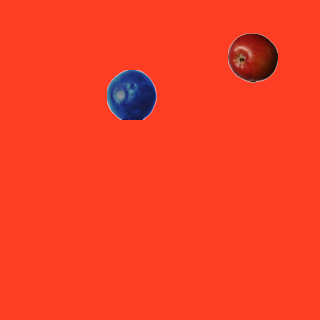Apple Braeburn: (227, 32, 277, 82)
Huckleberry: (106, 69, 156, 119)
